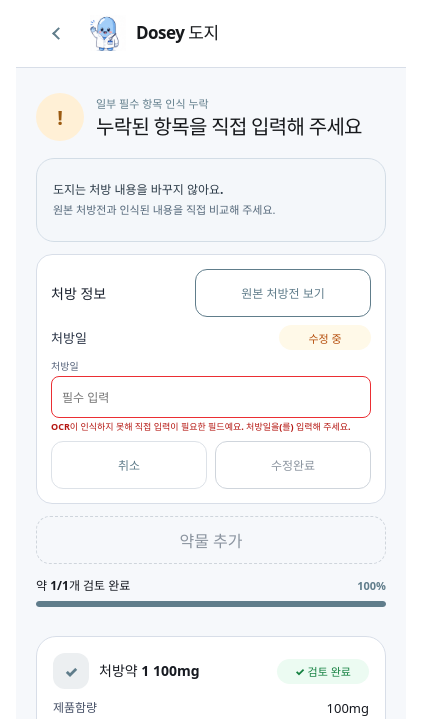
Scenario: PrescriptionReviewPage confirmation gate › PRESCRIBED_DATE placeholder를 직접 입력해 기존 PATCH로 저장한 뒤 검토 완료할 수 있다
The width and height of the screenshot is (423, 719).
Check: the text "일부 필수 항목 인식 누락" is shown, box 96,96 -> 209,111
Check: the icon with class "is-warning" reads "!", box 57,104 -> 63,130
In the field labelled "처방일": (211, 397) 51,376 -> 371,418, type "2026-08-22"
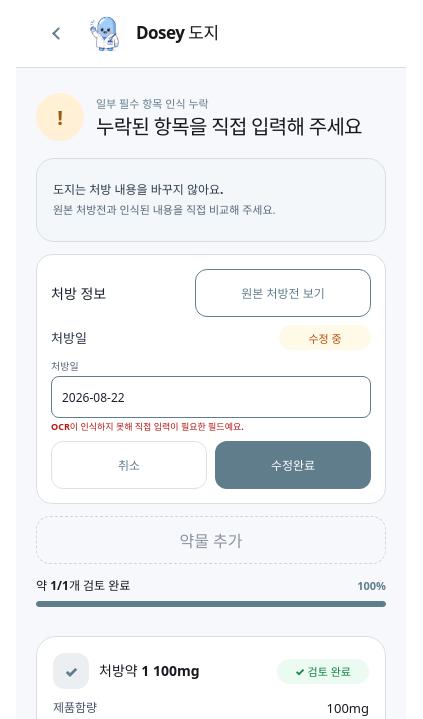
Click the button "수정완료": (293, 465) 215,441 -> 371,489
(page scrolled)
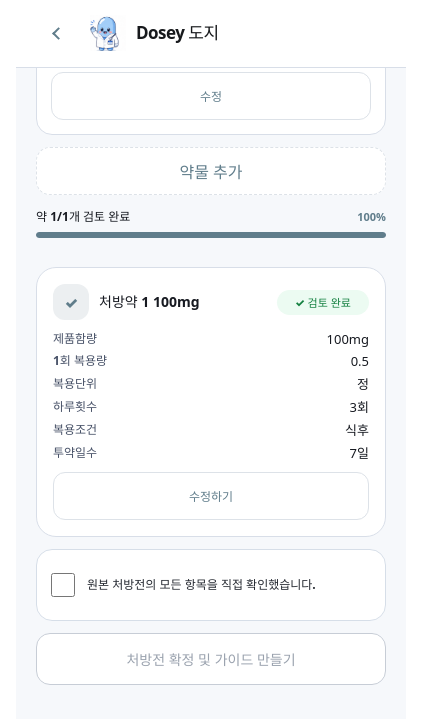
Check: the checkbox is enabled
Check: the button "처방전 확정 및 가이드 만들기" is disabled, box 36,633 -> 386,685
Click the checkbox: (63, 585) 51,573 -> 75,597
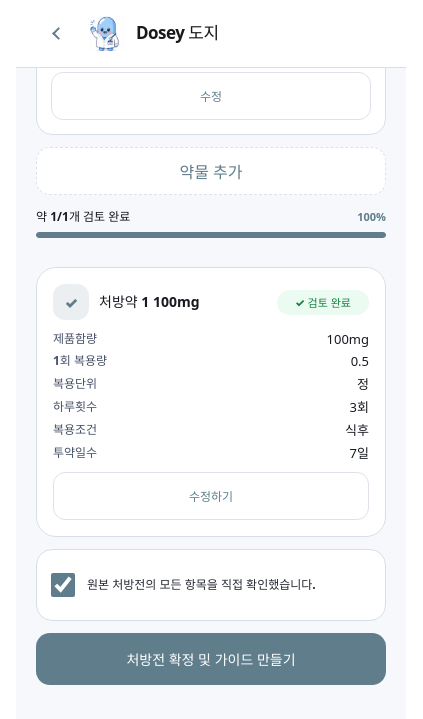
Check: the button "처방전 확정 및 가이드 만들기" is enabled, box 36,633 -> 386,685
